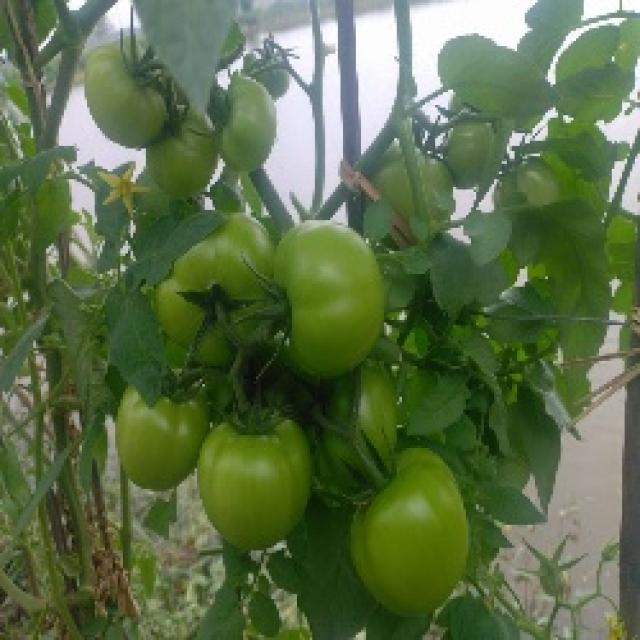tomato: (346, 454, 471, 605), (274, 222, 390, 373), (201, 411, 313, 541), (156, 241, 268, 354), (90, 43, 172, 147), (121, 401, 210, 487), (220, 70, 286, 166), (351, 364, 400, 466), (150, 120, 223, 188), (438, 116, 495, 189), (499, 164, 562, 207), (418, 143, 460, 205), (380, 155, 423, 210)
